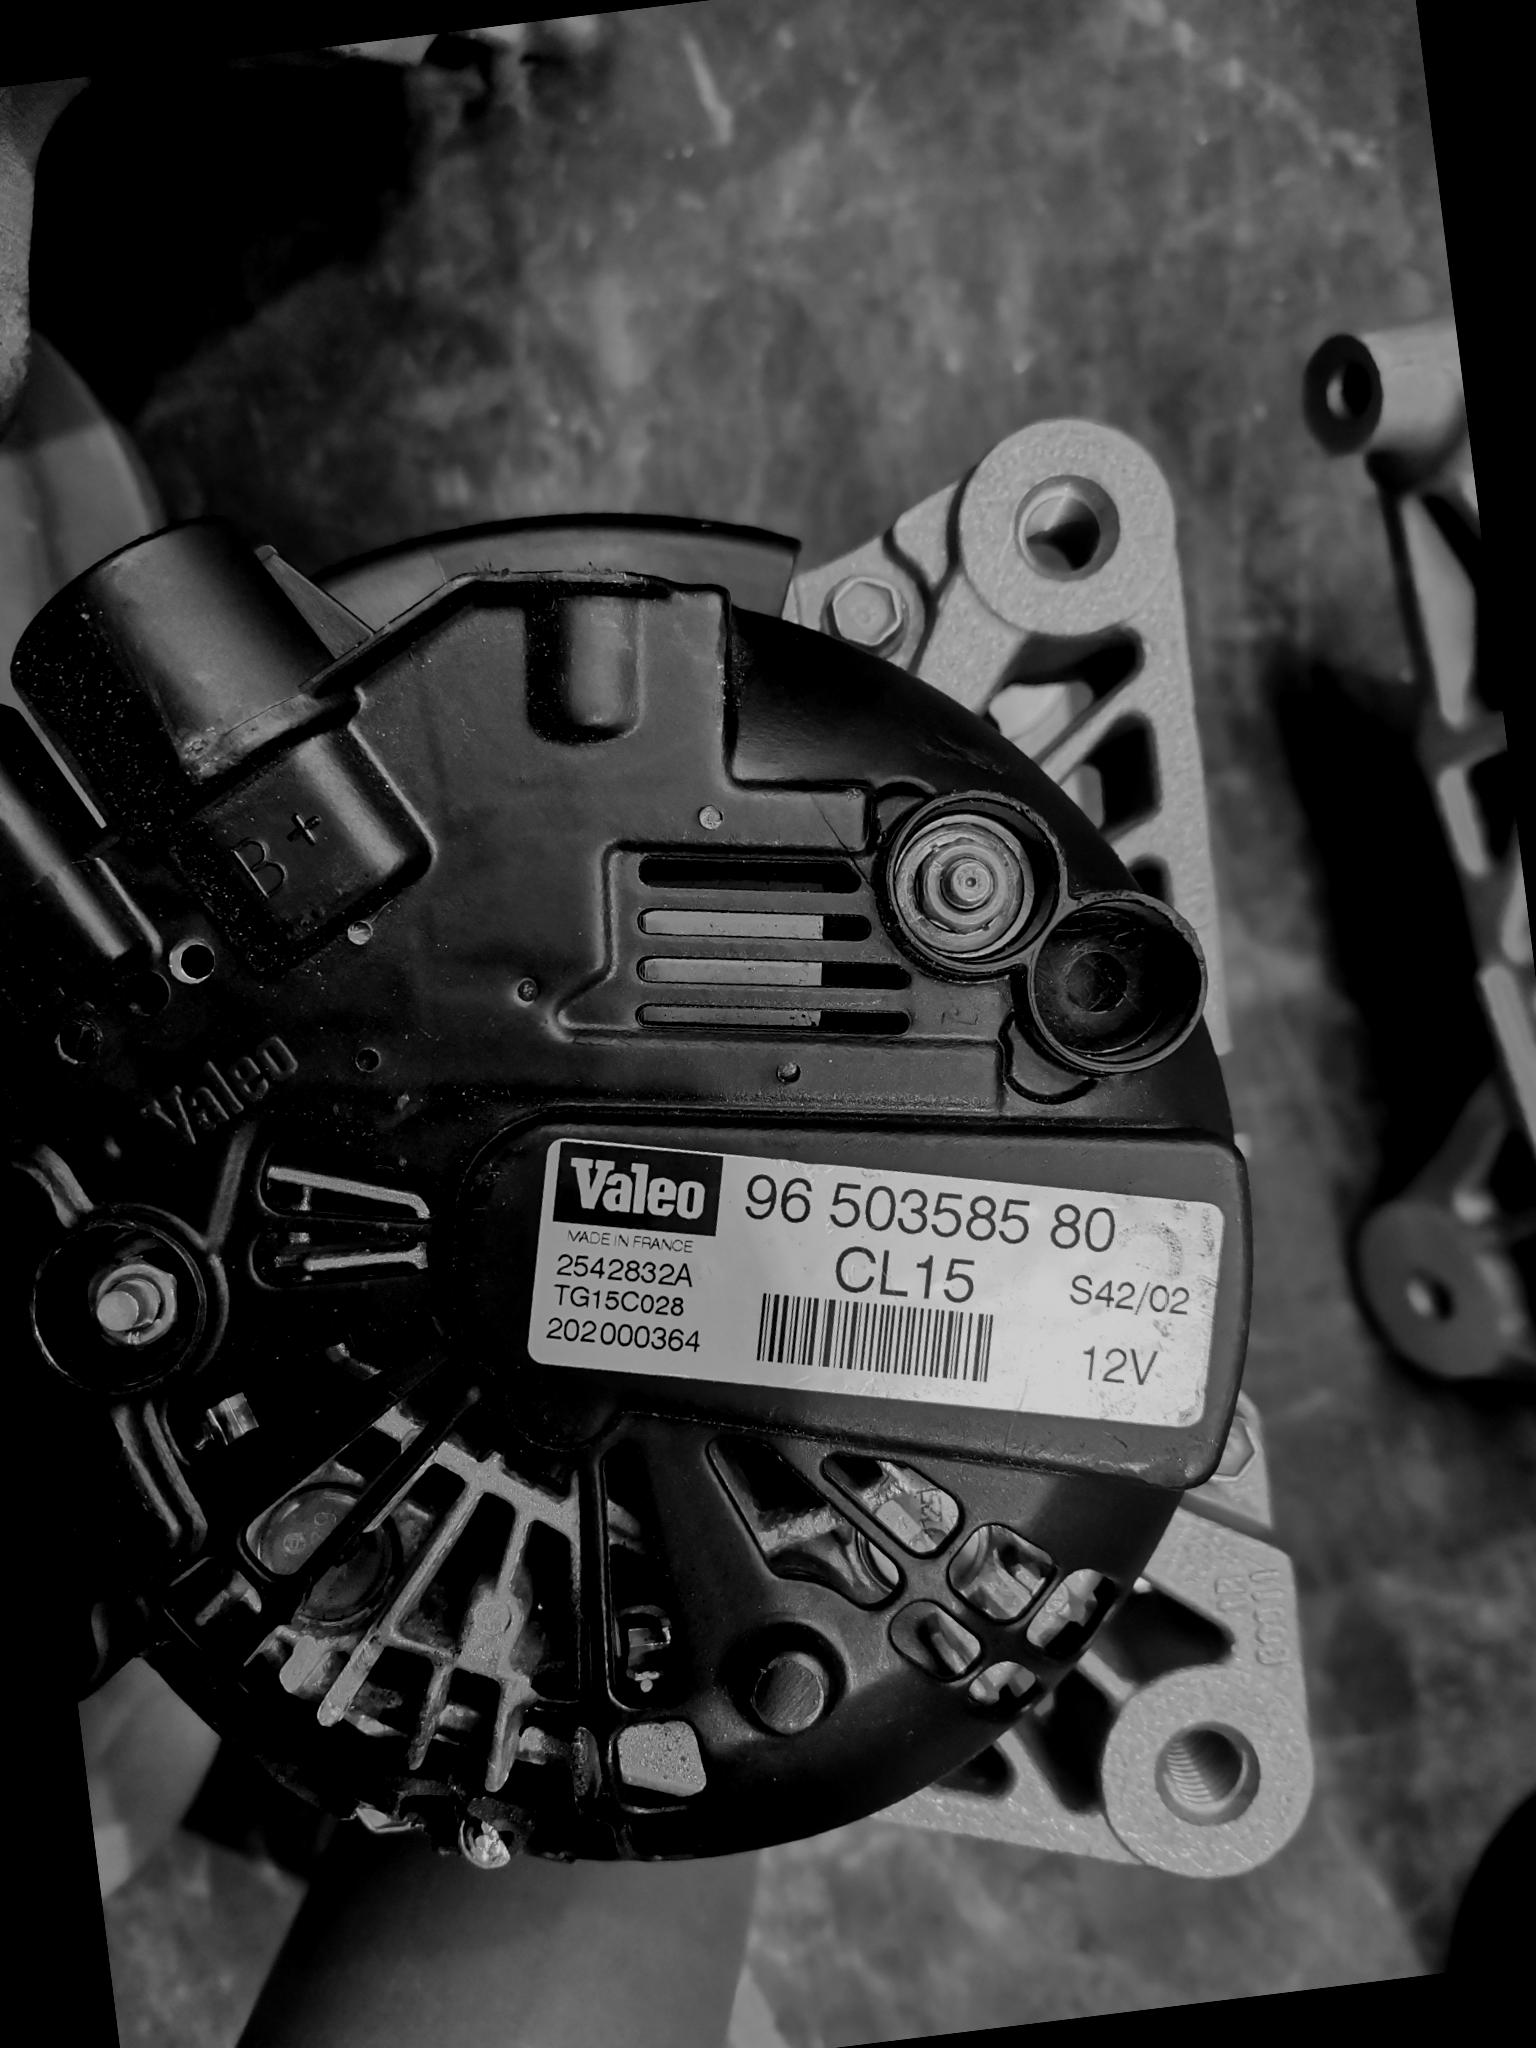hexagonal: (904, 814, 1037, 947), (73, 1243, 202, 1371)
